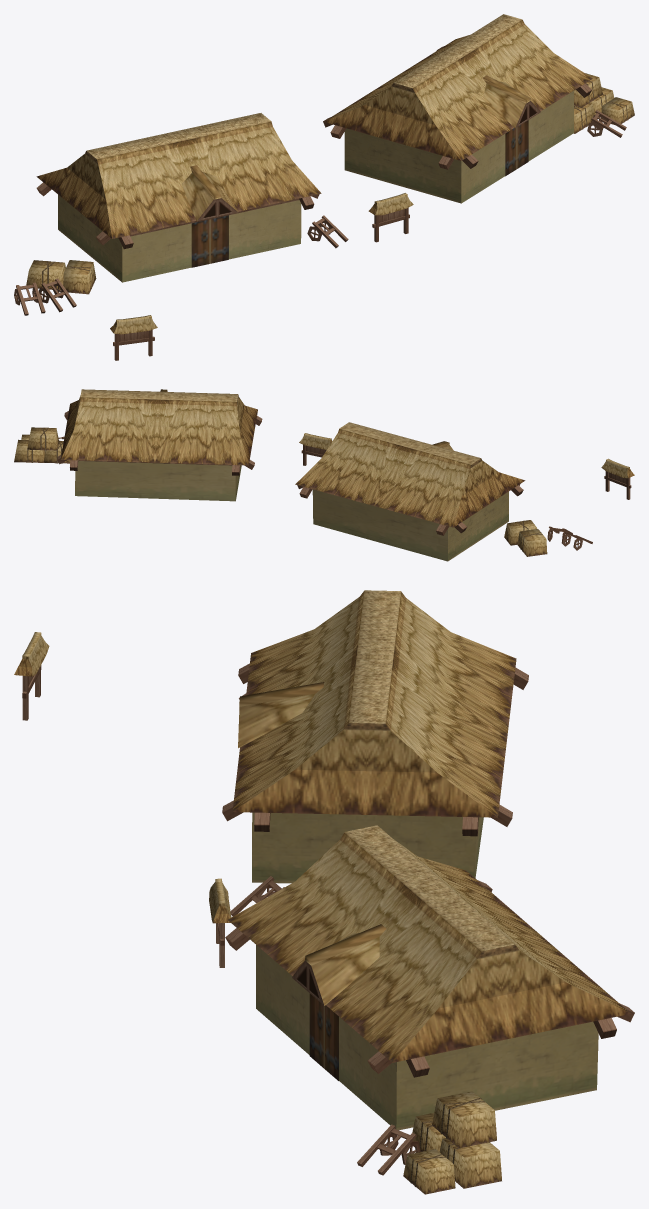
The model's file is Area_12_5.fbx.
The picture shows the model from 3 angles, top to bottom: view 1: azimuth 30°, elevation 25°; view 2: azimuth 150°, elevation 25°; view 3: azimuth 270°, elevation 25°; orthographic projection. The views are drawn at different scales.
Visible parts, largest first — view 1: Area_12_5; view 2: Area_12_5; view 3: Area_12_5.
Part boxes in pixels (bbox=[...]): Area_12_5: bbox=[14, 14, 634, 360]; Area_12_5: bbox=[14, 389, 634, 561]; Area_12_5: bbox=[14, 590, 634, 1194].
Size of the model in its own units: 5016 by 775 by 2544.
